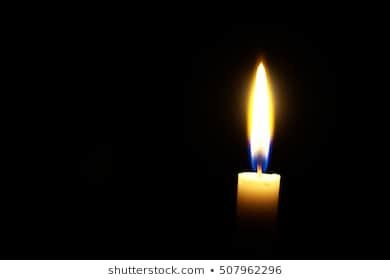fire: (246, 57, 274, 169)
